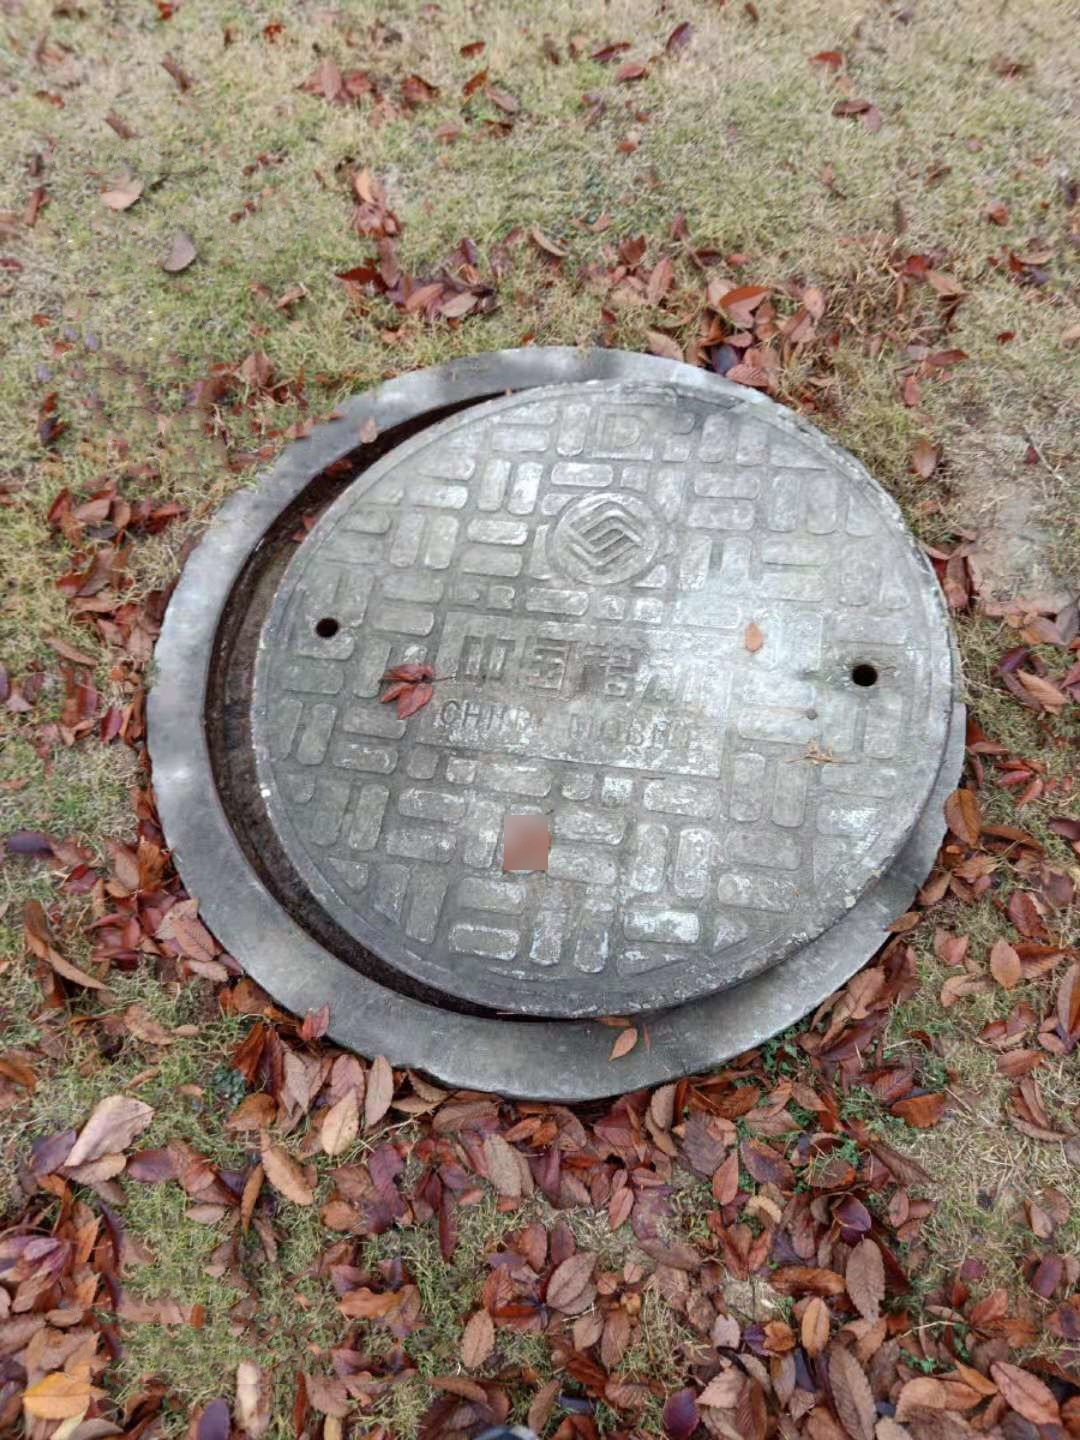uncovered: (144, 338, 964, 1106)
